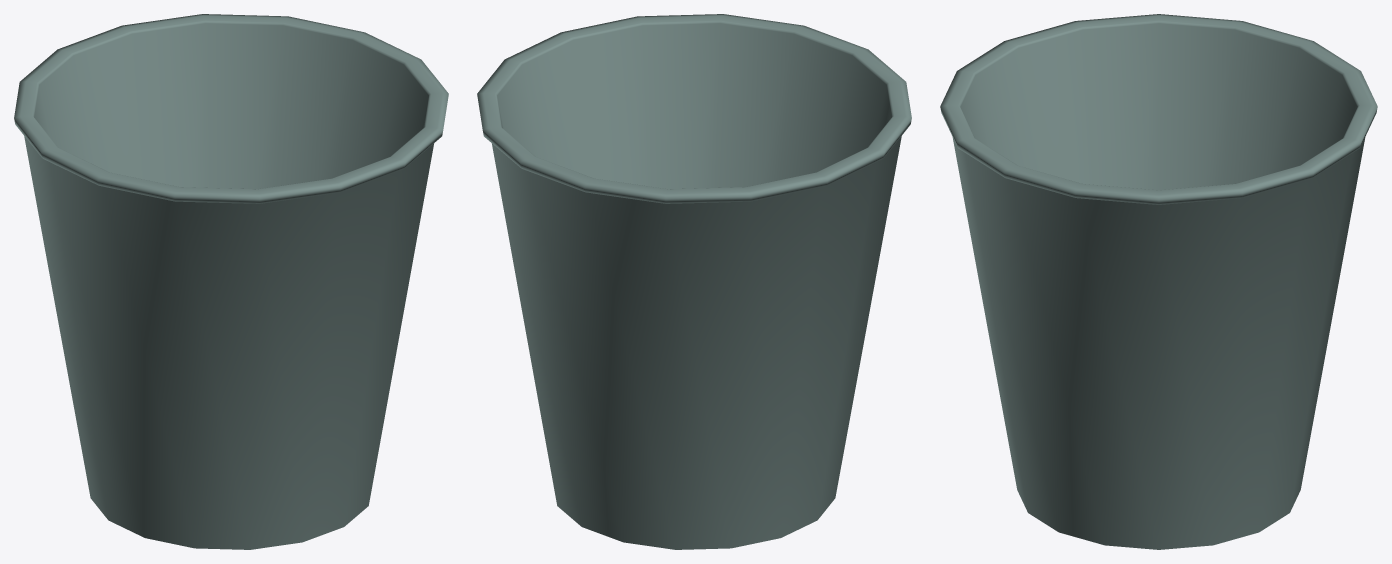
Rendered from waste bin.glb.
3 views of the same model, side by side, from view 1: azimuth 30°, elevation 25°; view 2: azimuth 150°, elevation 25°; view 3: azimuth 270°, elevation 25° (orthographic).
Visible parts, largest first — view 1: waste bin; view 2: waste bin; view 3: waste bin.
Part boxes in pixels (x1,y1,x2,y2): waste bin: [14, 14, 448, 549]; waste bin: [477, 14, 911, 549]; waste bin: [940, 14, 1377, 549].
Size of the model in its own units: 0.3143 by 0.3048 by 0.3143.
